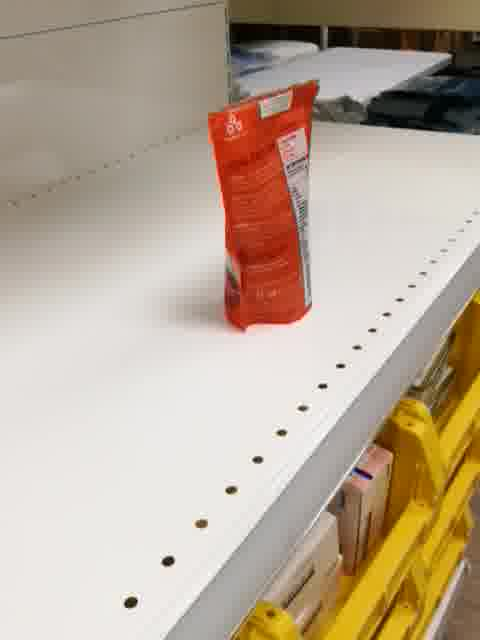whitechia: (204, 75, 331, 337)
